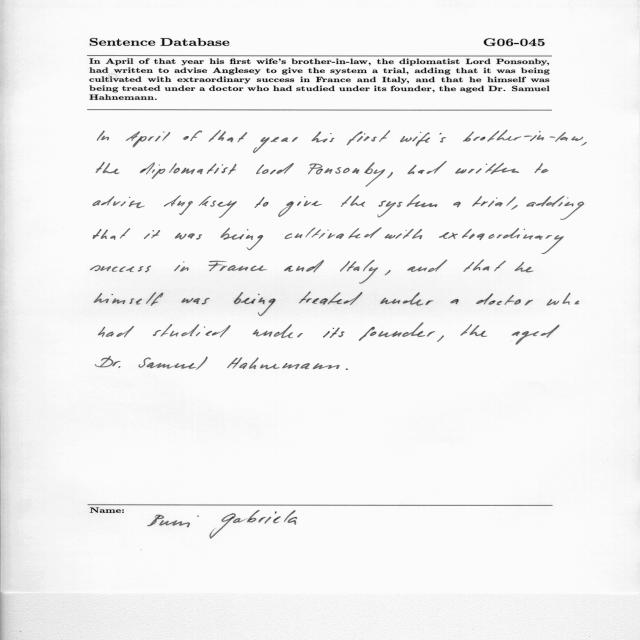word: (439, 228, 564, 254), (308, 162, 385, 187), (164, 195, 237, 218), (140, 162, 236, 179), (527, 195, 585, 220), (359, 322, 435, 341), (463, 130, 583, 142), (378, 195, 438, 218), (227, 358, 340, 370), (285, 227, 382, 239), (153, 324, 230, 338), (234, 292, 276, 316), (95, 292, 164, 306), (512, 325, 560, 345), (221, 228, 264, 250), (278, 196, 322, 217), (340, 260, 378, 284), (139, 357, 208, 370), (299, 292, 362, 305), (381, 292, 434, 306), (476, 293, 533, 306), (253, 137, 298, 153), (126, 132, 170, 148), (455, 163, 519, 174), (253, 324, 303, 338), (347, 130, 390, 145), (400, 132, 446, 146), (93, 196, 145, 208), (209, 261, 267, 271), (407, 162, 447, 175), (463, 260, 506, 272), (472, 196, 516, 207), (284, 260, 324, 272), (407, 260, 447, 272), (209, 130, 247, 142), (93, 228, 130, 240), (547, 293, 580, 306), (91, 265, 152, 272), (256, 163, 294, 174), (98, 326, 134, 337), (385, 229, 422, 239), (460, 324, 487, 337), (95, 356, 121, 368), (96, 162, 120, 174), (341, 196, 365, 207), (312, 132, 335, 143), (323, 327, 345, 338), (183, 130, 202, 141), (175, 233, 202, 240), (515, 262, 533, 272), (182, 298, 210, 304), (255, 197, 269, 208), (174, 262, 189, 272), (144, 230, 160, 239), (535, 163, 549, 173), (98, 130, 110, 141), (437, 335, 444, 342), (453, 202, 461, 208), (450, 299, 459, 304), (387, 172, 393, 178), (511, 205, 518, 210), (385, 270, 391, 275), (581, 142, 587, 146), (346, 368, 348, 370)
